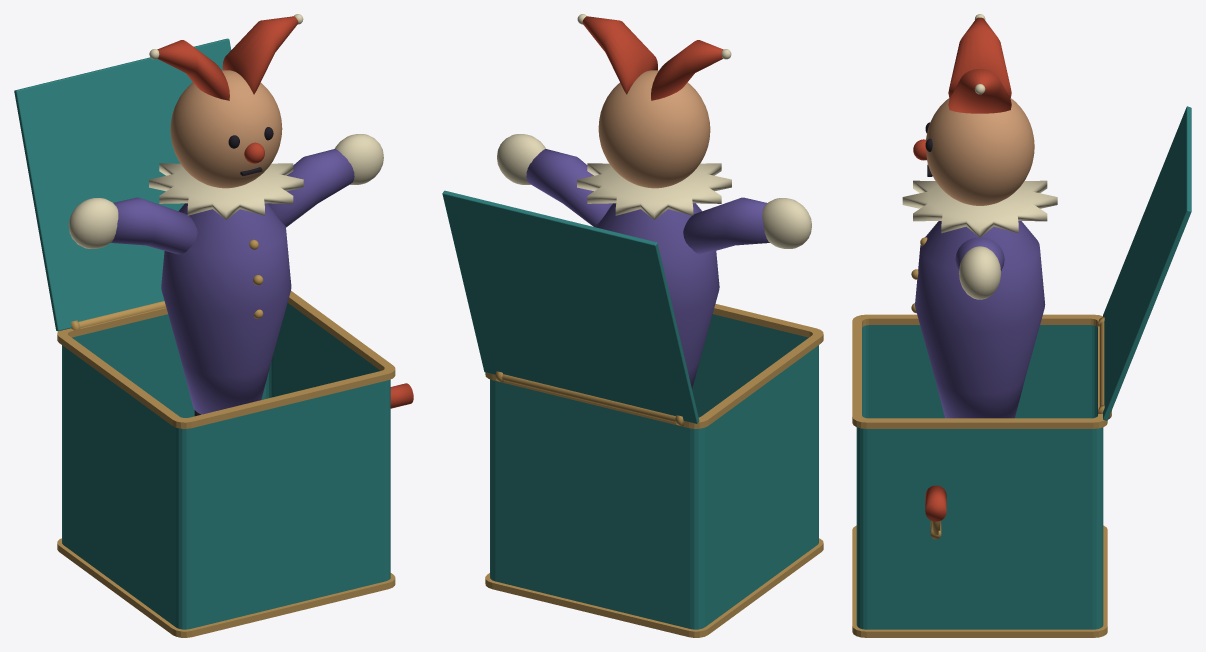
File: full.fbx
3 renders of one model, left to right at view 1: azimuth 30°, elevation 25°; view 2: azimuth 150°, elevation 25°; view 3: azimuth 270°, elevation 25°, orthographic.
Visible parts, largest first — view 1: Open thin metal box, Open square hinged lid, Loose tapering cloth torso, Rounded puppet head, Upper rolled box rim, Pointed pleated neck ruff, Left raised cloth arm, Lower rolled box rim, Right raised cloth arm, Right two point hat horn, Left two point hat horn, Left mitten hand (+2 smaller); view 2: Open thin metal box, Open square hinged lid, Rounded puppet head, Loose tapering cloth torso, Pointed pleated neck ruff, Upper rolled box rim, Left raised cloth arm, Lower rolled box rim, Right raised cloth arm, Right two point hat horn, Left two point hat horn, Left mitten hand (+2 smaller); view 3: Open thin metal box, Loose tapering cloth torso, Open square hinged lid, Rounded puppet head, Upper rolled box rim, Pointed pleated neck ruff, Lower rolled box rim, Left two point hat horn, Right two point hat horn, Right mitten hand, Crank rounded grip, Right raised cloth arm (+1 smaller).
Part boxes in pixels (x1,y1,x2,y2): Open thin metal box: [62, 303, 390, 629]; Open square hinged lid: [14, 38, 231, 331]; Loose tapering cloth torso: [161, 203, 291, 414]; Rounded puppet head: [170, 70, 282, 188]; Upper rolled box rim: [57, 291, 395, 428]; Pointed pleated neck ruff: [149, 163, 303, 219]; Left raised cloth arm: [111, 197, 197, 254]; Lower rolled box rim: [57, 538, 395, 637]; Right raised cloth arm: [268, 149, 354, 227]; Right two point hat horn: [222, 16, 298, 94]; Left two point hat horn: [157, 40, 229, 100]; Left mitten hand: [68, 198, 118, 248]; Open thin metal box: [490, 314, 818, 629]; Open square hinged lid: [442, 190, 699, 423]; Rounded puppet head: [598, 70, 710, 188]; Loose tapering cloth torso: [595, 203, 719, 389]; Pointed pleated neck ruff: [577, 163, 731, 219]; Upper rolled box rim: [485, 303, 823, 428]; Left raised cloth arm: [683, 197, 769, 254]; Lower rolled box rim: [485, 538, 823, 637]; Right raised cloth arm: [526, 149, 612, 226]; Right two point hat horn: [582, 16, 657, 94]; Left two point hat horn: [651, 40, 723, 100]; Left mitten hand: [762, 198, 811, 248]; Open thin metal box: [856, 325, 1103, 629]; Loose tapering cloth torso: [915, 221, 1045, 418]; Open square hinged lid: [1103, 106, 1191, 420]; Rounded puppet head: [926, 98, 1034, 205]; Upper rolled box rim: [852, 314, 1107, 428]; Pointed pleated neck ruff: [902, 180, 1057, 237]; Lower rolled box rim: [852, 525, 1107, 637]; Left two point hat horn: [948, 17, 1011, 97]; Right two point hat horn: [948, 69, 1011, 113]; Right mitten hand: [959, 246, 1000, 299]; Crank rounded grip: [925, 485, 946, 521]; Right raised cloth arm: [955, 237, 1004, 270].
Size of the model in its own units: 20.7 by 33.6 by 19.26.
